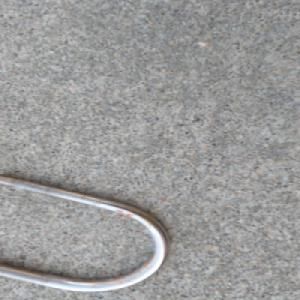ClampPart: (0, 171, 174, 293)
